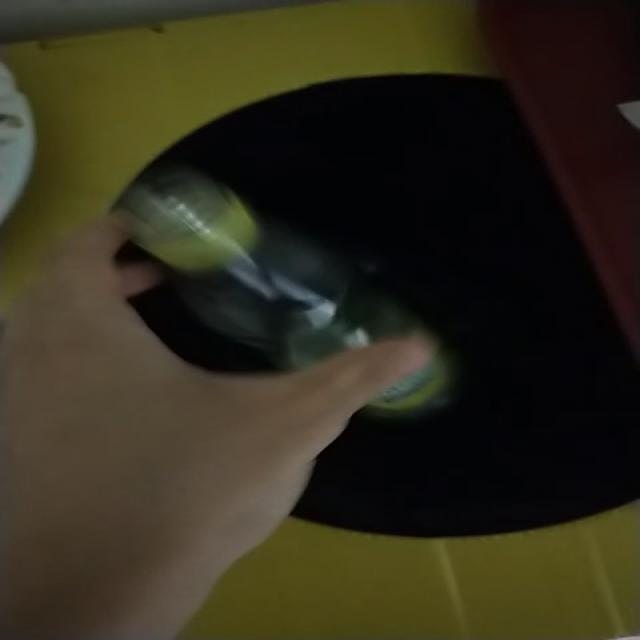Plastic: (112, 165, 425, 369), (371, 360, 451, 416)
